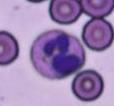N: (30, 29, 86, 79)
